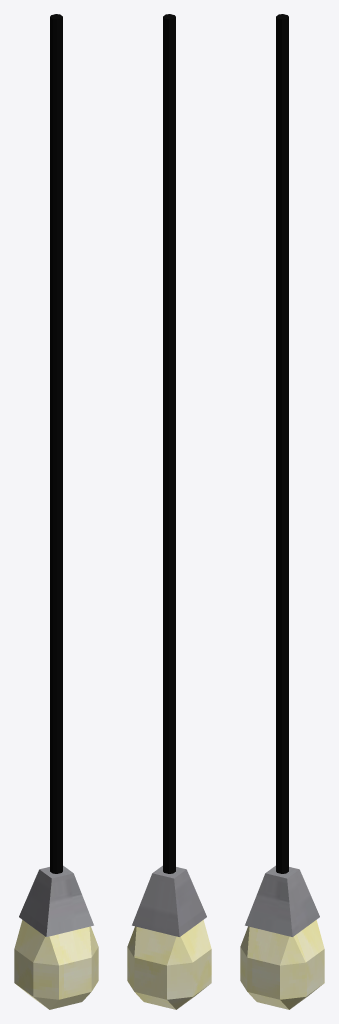
File: LightBulb.fbx
The picture shows the model from 3 angles, left to right: view 1: azimuth 30°, elevation 25°; view 2: azimuth 150°, elevation 25°; view 3: azimuth 330°, elevation 25°; orthographic projection.
Parts seen in each view (by area): view 1: LightBulb; view 2: LightBulb; view 3: LightBulb.
Part boxes in pixels (x1,y1,x2,y2): LightBulb: (14, 14, 98, 1009); LightBulb: (127, 14, 211, 1009); LightBulb: (240, 14, 324, 1009).
Size of the model in its own units: 0.5416 by 7.78 by 0.5416.
3 materials, 2 textured.
